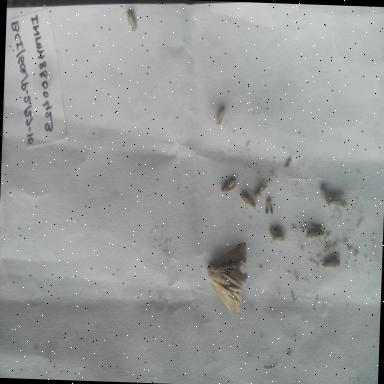pbw: (122, 8, 142, 31), (302, 222, 324, 242), (253, 178, 269, 202), (318, 183, 334, 207), (320, 256, 342, 270), (218, 176, 237, 192), (326, 195, 347, 209), (238, 192, 255, 209), (214, 104, 226, 128), (260, 194, 272, 218), (281, 153, 293, 172)
